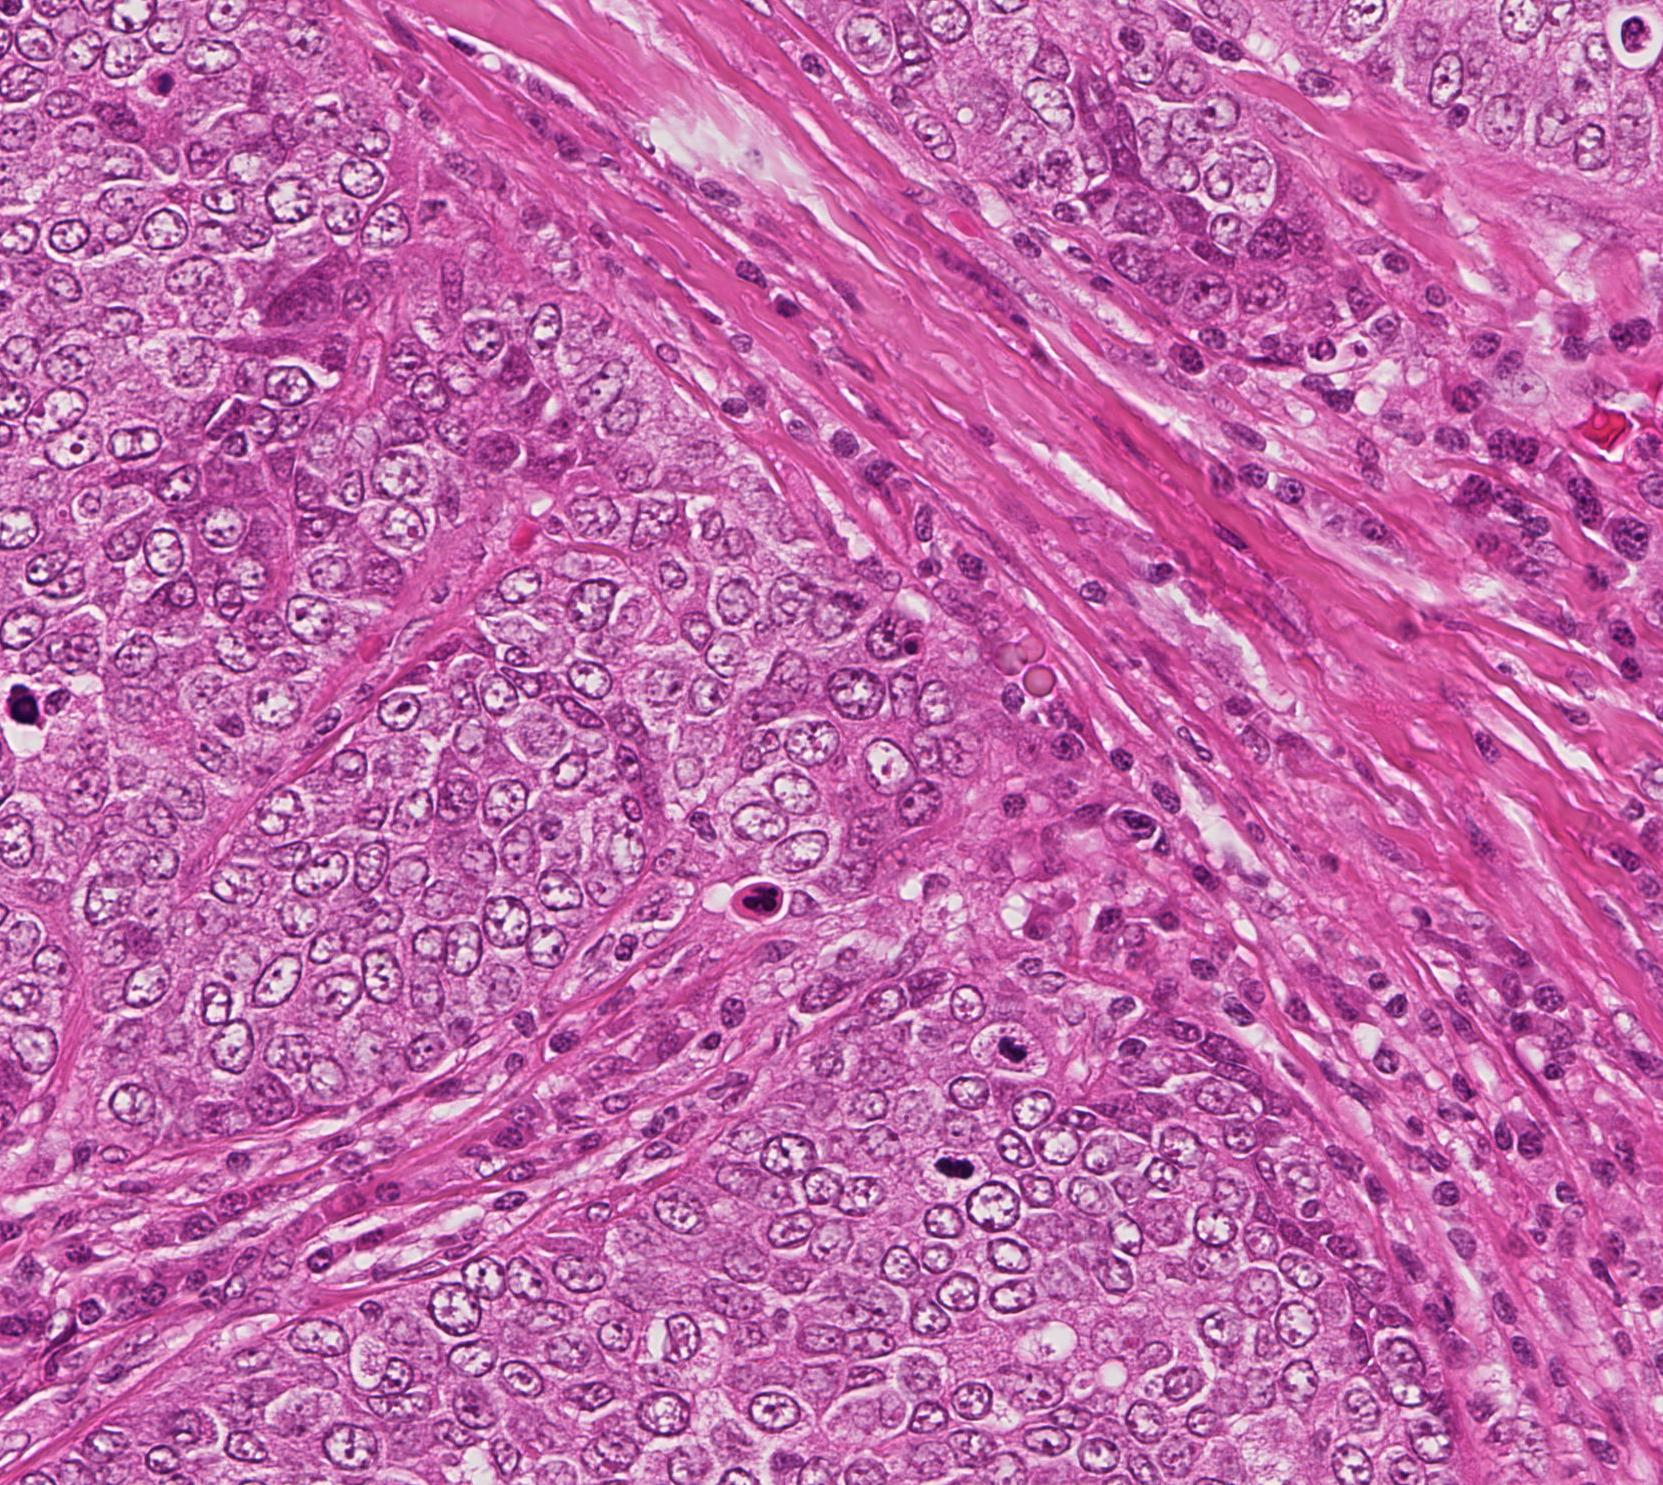mitosis: (935, 1134, 995, 1194), (981, 1031, 1041, 1089)
